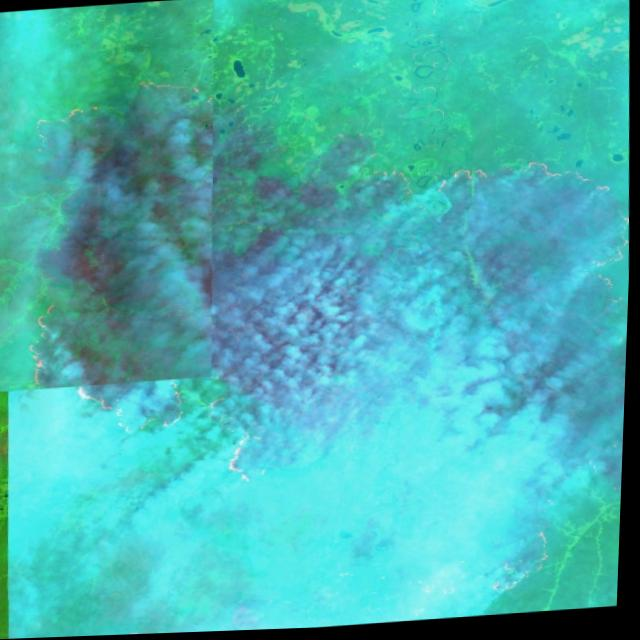fire: (21, 284, 272, 504), (362, 152, 635, 327), (401, 525, 560, 624), (21, 72, 229, 145)
